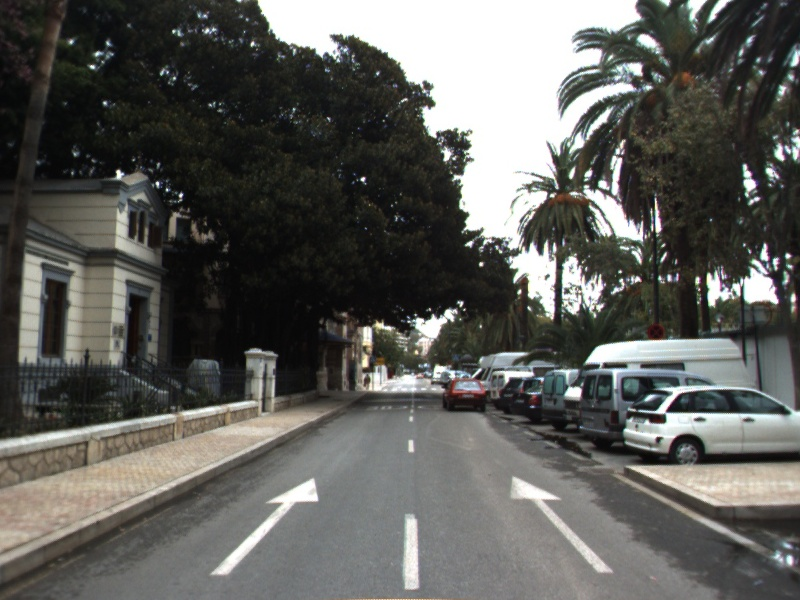STRAIGHT: (209, 475, 320, 577), (508, 474, 616, 575)
